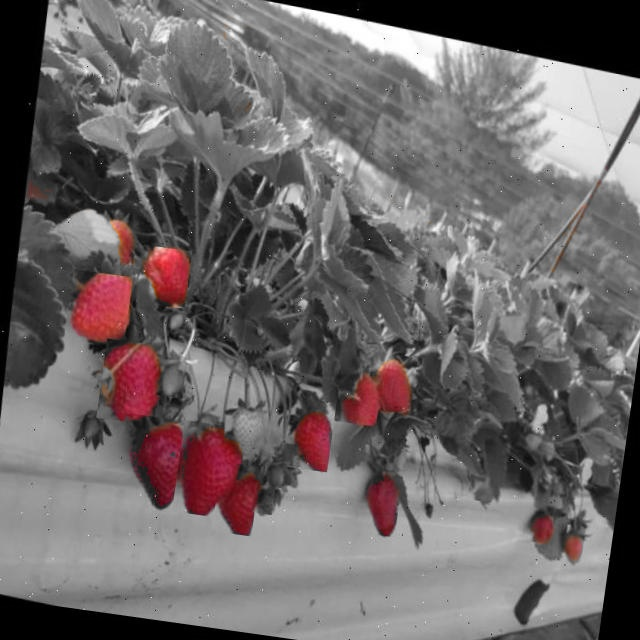ripe: (113, 413, 191, 514), (172, 420, 246, 520), (96, 338, 168, 426), (64, 270, 134, 348), (282, 397, 336, 472), (353, 462, 404, 538), (212, 462, 262, 536), (334, 356, 385, 427), (136, 245, 192, 309), (366, 352, 418, 414), (102, 218, 139, 265), (521, 498, 556, 544)
unripe: (220, 399, 266, 458), (155, 358, 186, 398), (557, 524, 586, 564), (252, 482, 276, 516), (468, 474, 495, 503), (262, 461, 287, 488)
